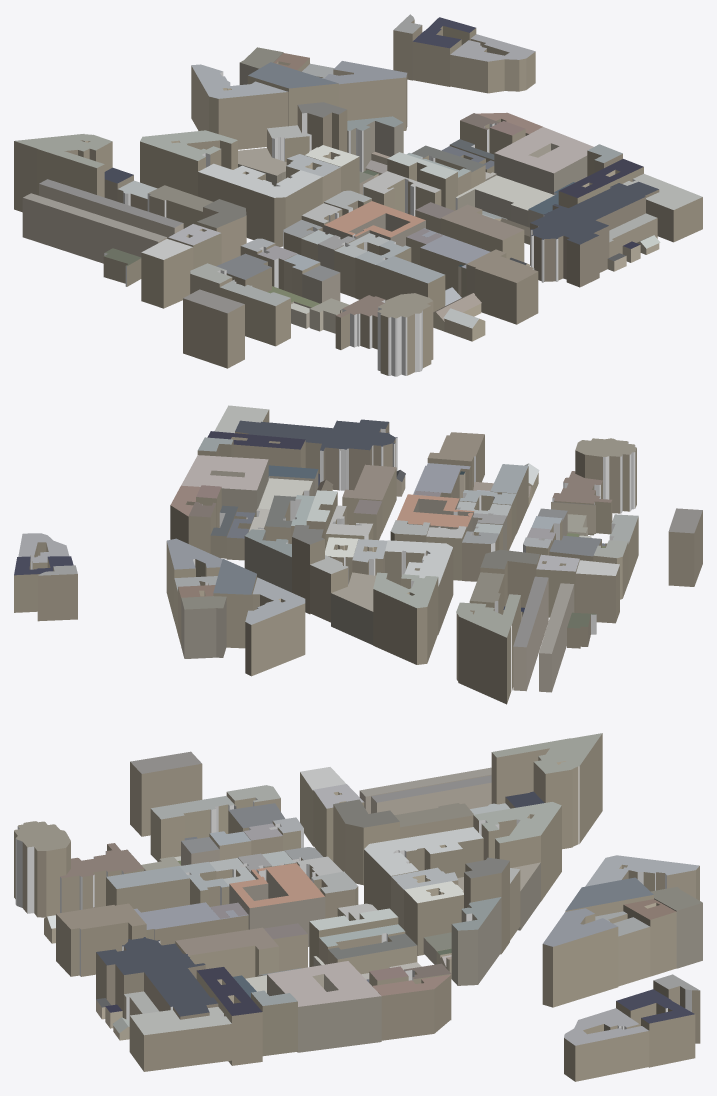
The picture shows the model from 3 angles, top to bottom: view 1: azimuth 30°, elevation 25°; view 2: azimuth 150°, elevation 25°; view 3: azimuth 270°, elevation 25°; orthographic projection. The views are drawn at different scales.
Visible parts, largest first — view 1: tuile; view 2: tuile; view 3: tuile.
Part boxes in pixels (x1,y1,x2,y2): tuile: (14,14,702,376); tuile: (14,405,702,704); tuile: (14,733,702,1081).
Size of the model in its own units: 269 by 41.33 by 267.
